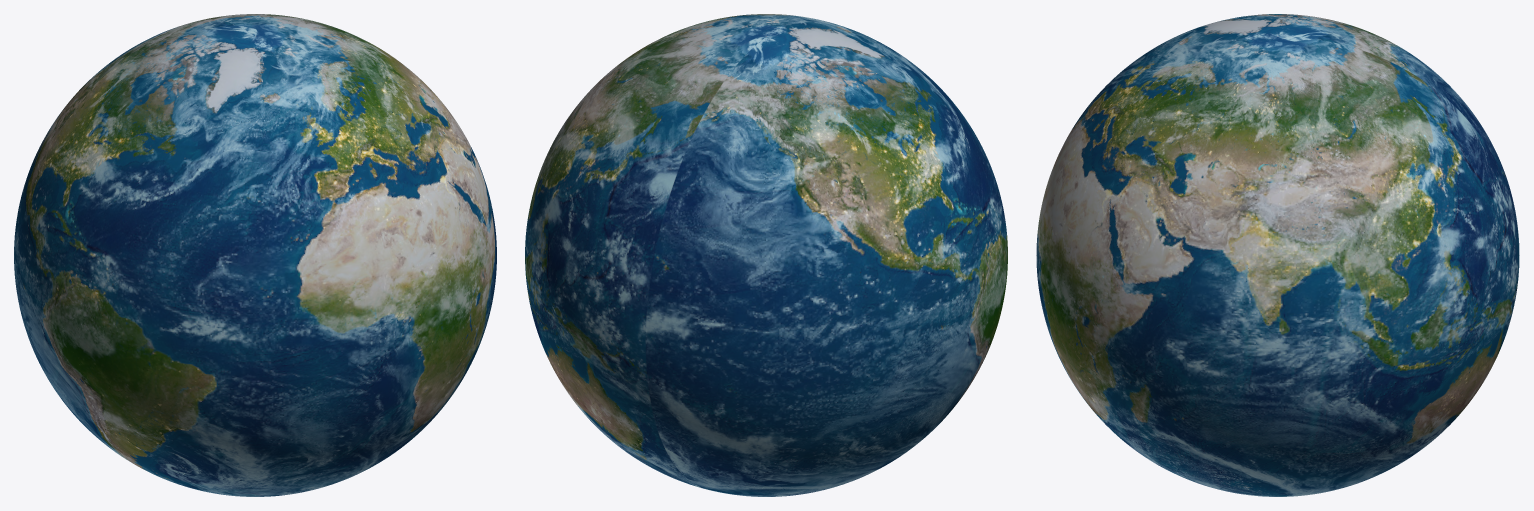
File: 3d_earth_for_James.glb
3 renders of one model, left to right at view 1: azimuth 30°, elevation 25°; view 2: azimuth 150°, elevation 25°; view 3: azimuth 270°, elevation 25°, orthographic.
Parts seen in each view (by area): view 1: Sphere; view 2: Sphere; view 3: Sphere.
Part boxes in pixels (bbox=[...]): Sphere: bbox=[14, 14, 496, 496]; Sphere: bbox=[525, 14, 1007, 496]; Sphere: bbox=[1036, 14, 1519, 496].
Bounding box in the file's own units: 1 × 1 × 1.
Materials: 1 (1 with a texture image).
